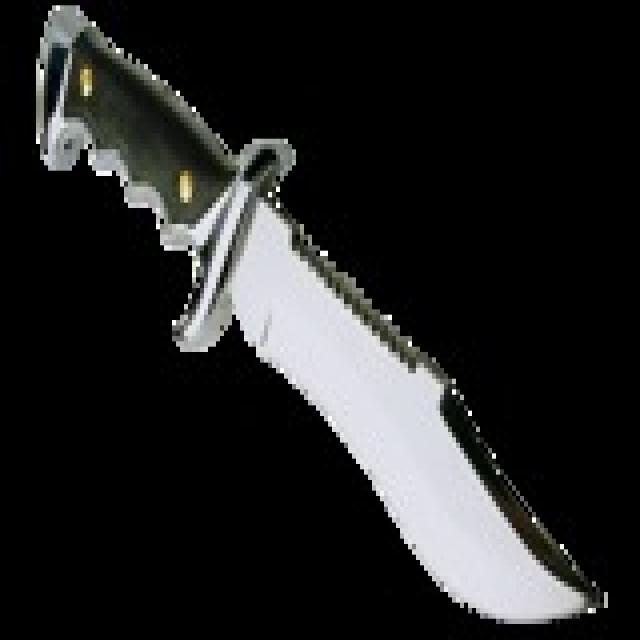Knife: (30, 7, 604, 620)
